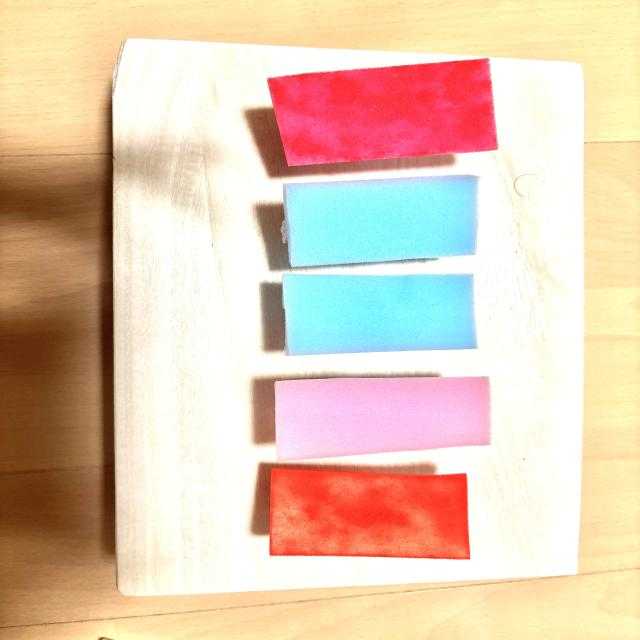ika: (284, 175, 478, 267), (283, 274, 477, 355)
maguro: (268, 59, 498, 165)
salmon: (270, 468, 470, 559)
tai: (275, 377, 491, 461)
